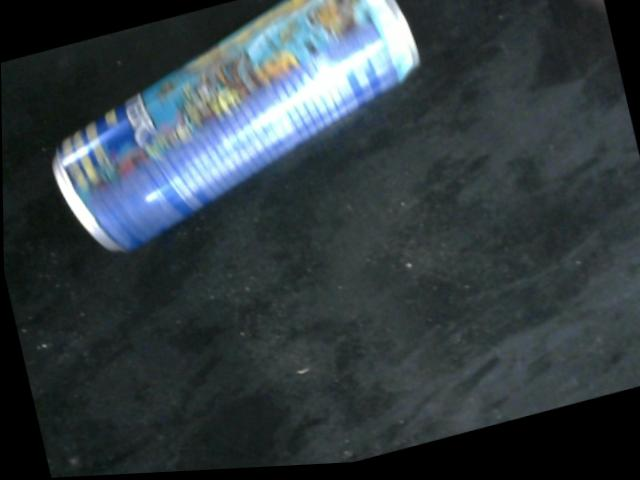can: (50, 0, 422, 258)
